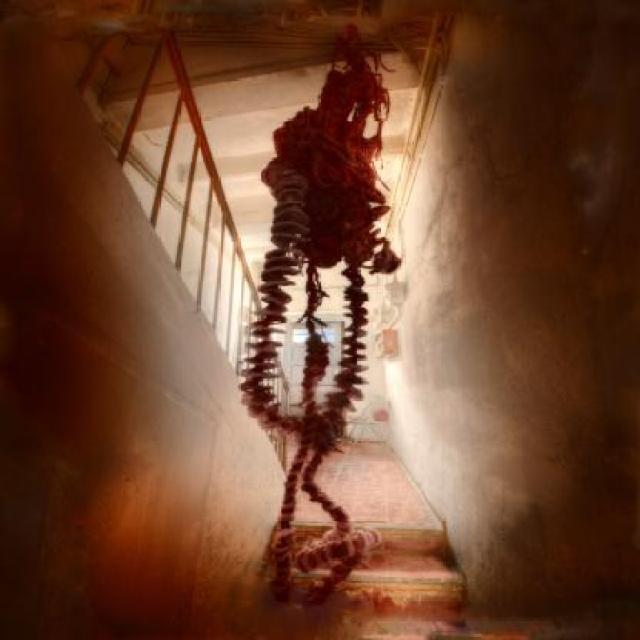stair: (262, 518, 466, 640)
